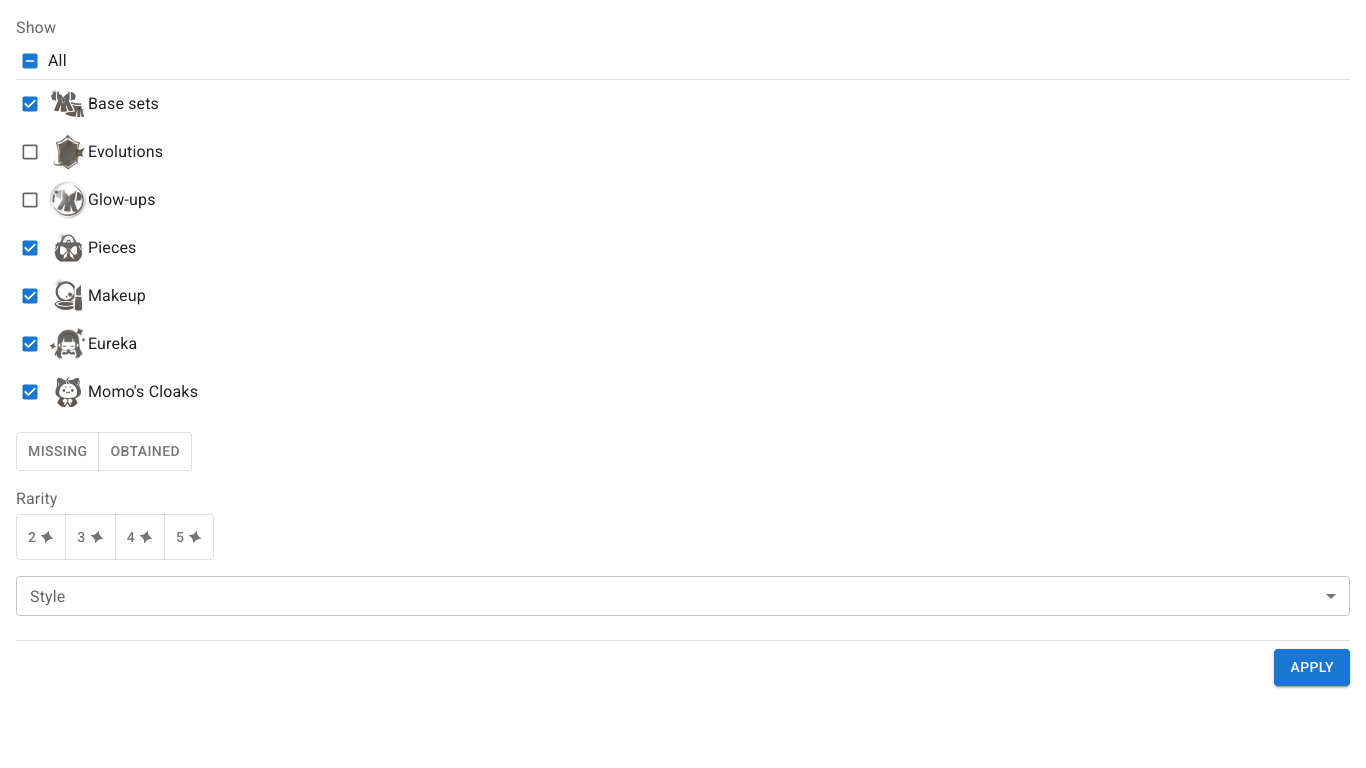
Test: SeasonFilterBody › does not show Clear all when only a visibility toggle changed
What coordinates should you click on to do the following:
click the checkbox named "Show Evolutions"
I would click on:
 (30, 152)
Its box is [20,142,40,162].
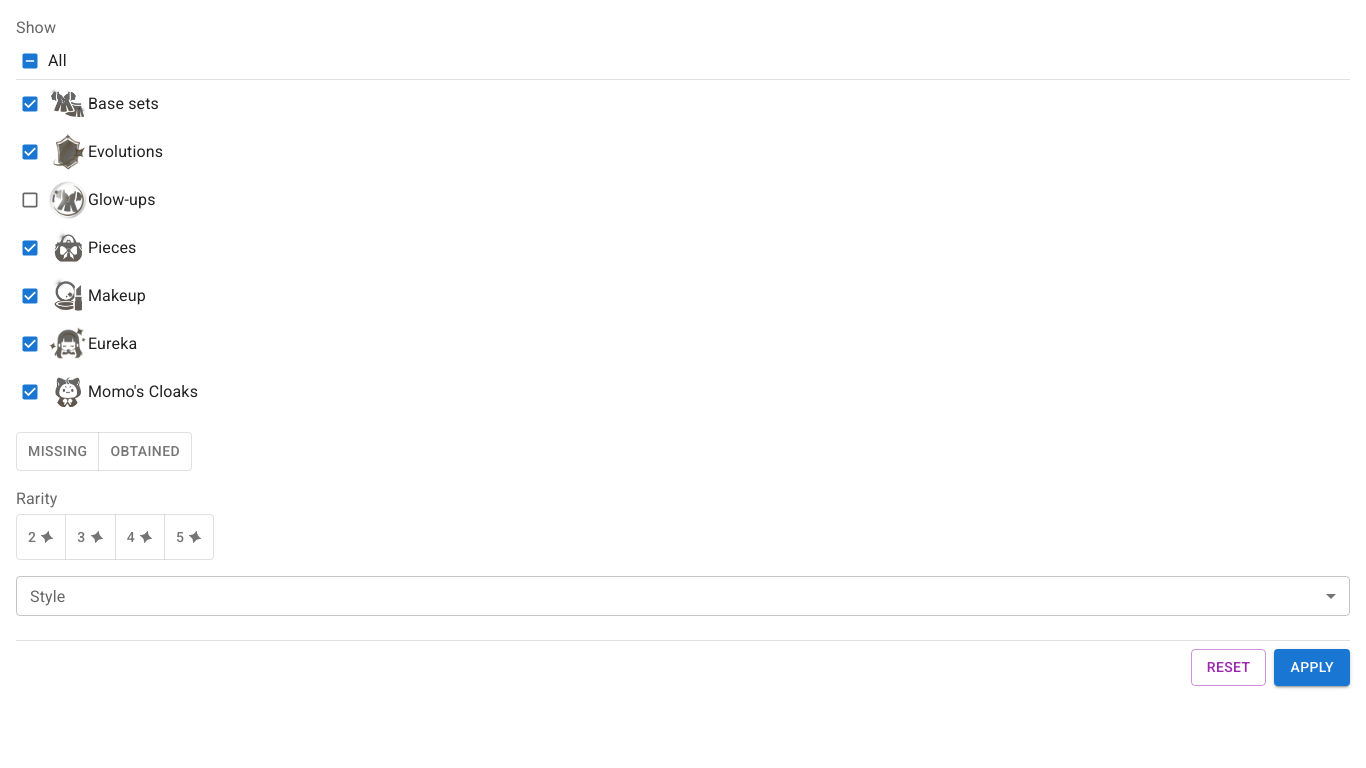
Expected: the checkbox named "Show Evolutions" is checked, [20,142,40,162]
Expected: the button "Reset" is shown, [1191,649,1266,686]
